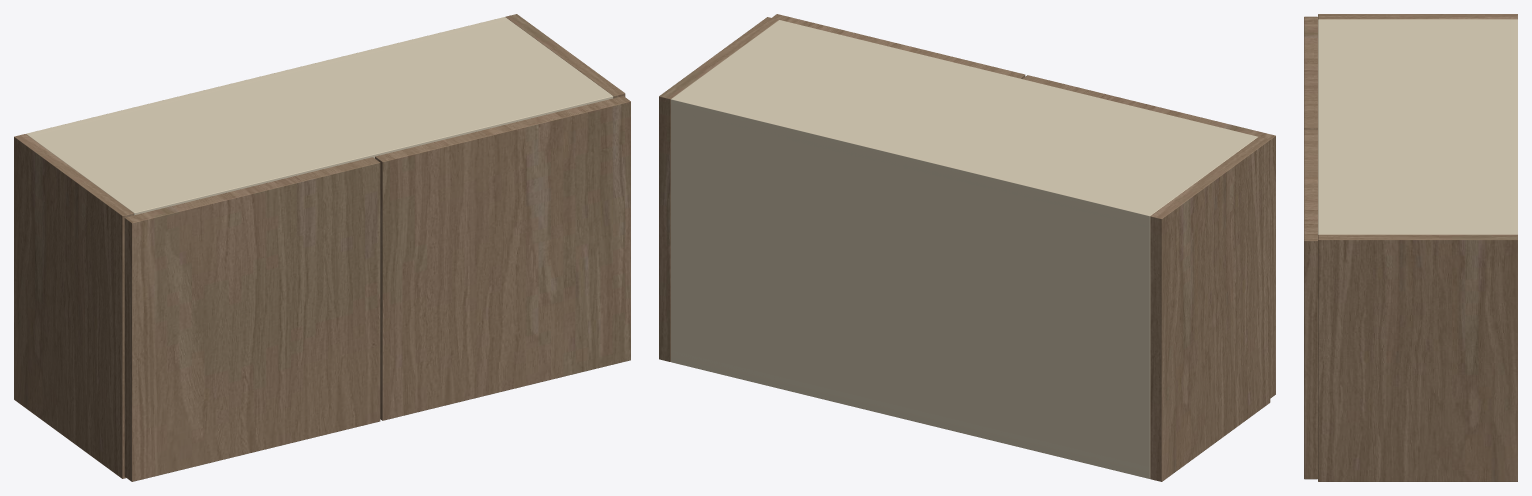
Rendered from oppein-ply-mnw-w3015.glb.
3 views of the same model, side by side, from view 1: azimuth 30°, elevation 25°; view 2: azimuth 150°, elevation 25°; view 3: azimuth 270°, elevation 25° (orthographic). The views are drawn at different scales.
Visible parts, largest first — view 1: Door, Door.001, Cabinet top, Cabinet side, Cabinet back, Cabinet side.001; view 2: Cabinet back, Cabinet top, Cabinet side, Cabinet bottom, Cabinet side.001, Door, Door.001; view 3: Cabinet side.001, Cabinet top, Door.001, Cabinet back, Door, Cabinet side.
Boxes of the visible parts, bbox=[...] form: Door: bbox=[124, 157, 380, 481]; Door.001: bbox=[375, 96, 630, 420]; Cabinet top: bbox=[27, 17, 613, 215]; Cabinet side: bbox=[14, 134, 133, 478]; Cabinet back: bbox=[26, 17, 508, 136]; Cabinet side.001: bbox=[505, 14, 625, 98]; Cabinet back: bbox=[671, 96, 1153, 478]; Cabinet top: bbox=[671, 20, 1257, 227]; Cabinet side: bbox=[1150, 137, 1270, 481]; Cabinet bottom: bbox=[671, 350, 1150, 478]; Cabinet side.001: bbox=[659, 17, 778, 361]; Door: bbox=[1022, 75, 1275, 398]; Door.001: bbox=[772, 14, 1025, 78]; Cabinet side.001: bbox=[1318, 234, 1517, 481]; Cabinet top: bbox=[1318, 19, 1517, 234]; Door.001: bbox=[1304, 129, 1317, 479]; Cabinet back: bbox=[1510, 19, 1517, 234]; Door: bbox=[1304, 16, 1317, 129]; Cabinet side: bbox=[1318, 14, 1517, 19].
Bounding box in the file's own units: 0.762 × 0.381 × 0.3048.
Materials: 2 (1 with a texture image).
